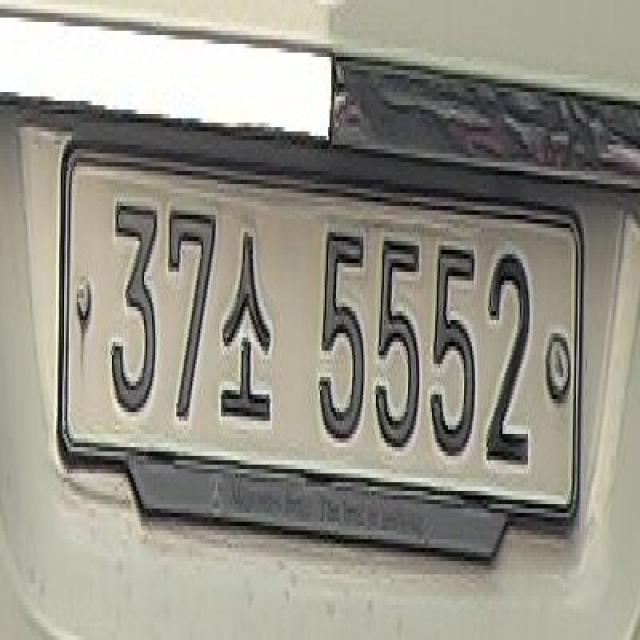2: (483, 246, 531, 474)
3: (112, 198, 158, 416)
5: (428, 232, 478, 456), (316, 224, 366, 447), (374, 232, 422, 456)
7: (167, 206, 220, 430)
license_plate: (60, 140, 582, 522)
so: (220, 228, 274, 425)
